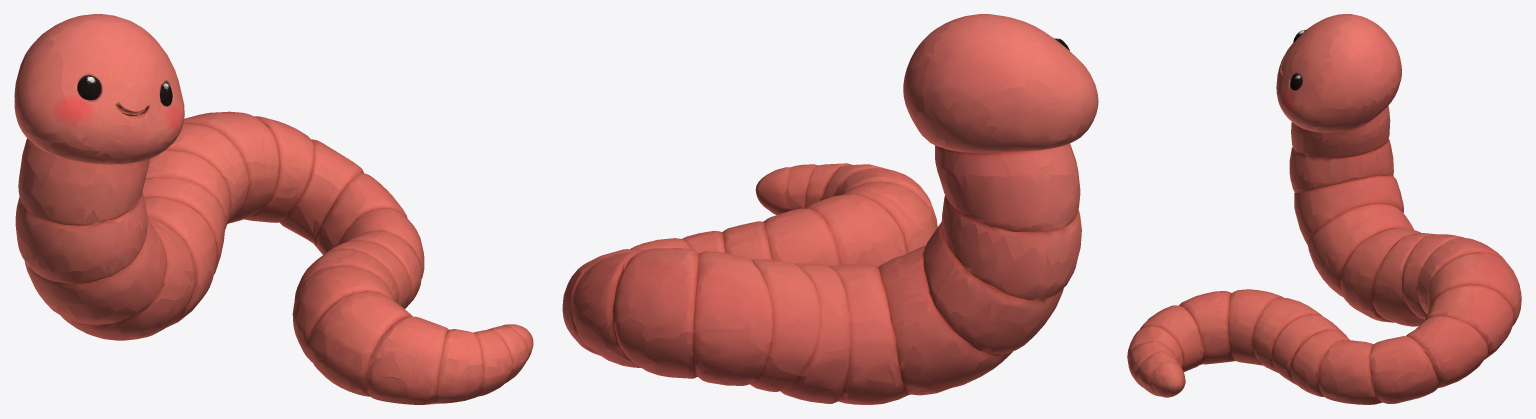
Rendered from props_mato.glb.
3 views of the same model, side by side, from view 1: azimuth 30°, elevation 25°; view 2: azimuth 150°, elevation 25°; view 3: azimuth 270°, elevation 25° (orthographic). The views are drawn at different scales.
Parts seen in each view (by area): view 1: output_unwrapped; view 2: output_unwrapped; view 3: output_unwrapped.
Boxes of the visible parts, x1,y1,x2,y2 form: output_unwrapped: (14,14,533,404); output_unwrapped: (562,14,1098,404); output_unwrapped: (1127,14,1521,404).
Size of the model in its own units: 0.1903 by 0.1471 by 0.2.
1 material, 1 textured.
